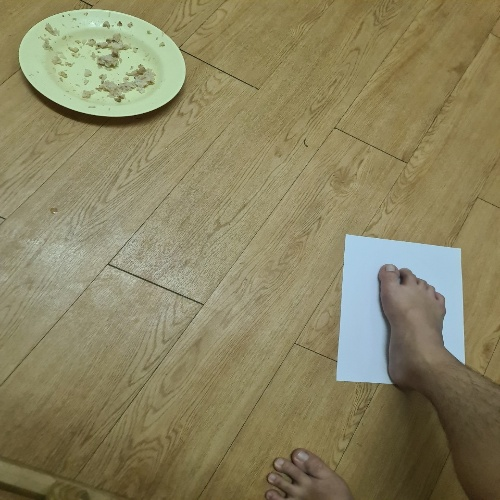Top_Foot: (322, 220, 478, 396)
